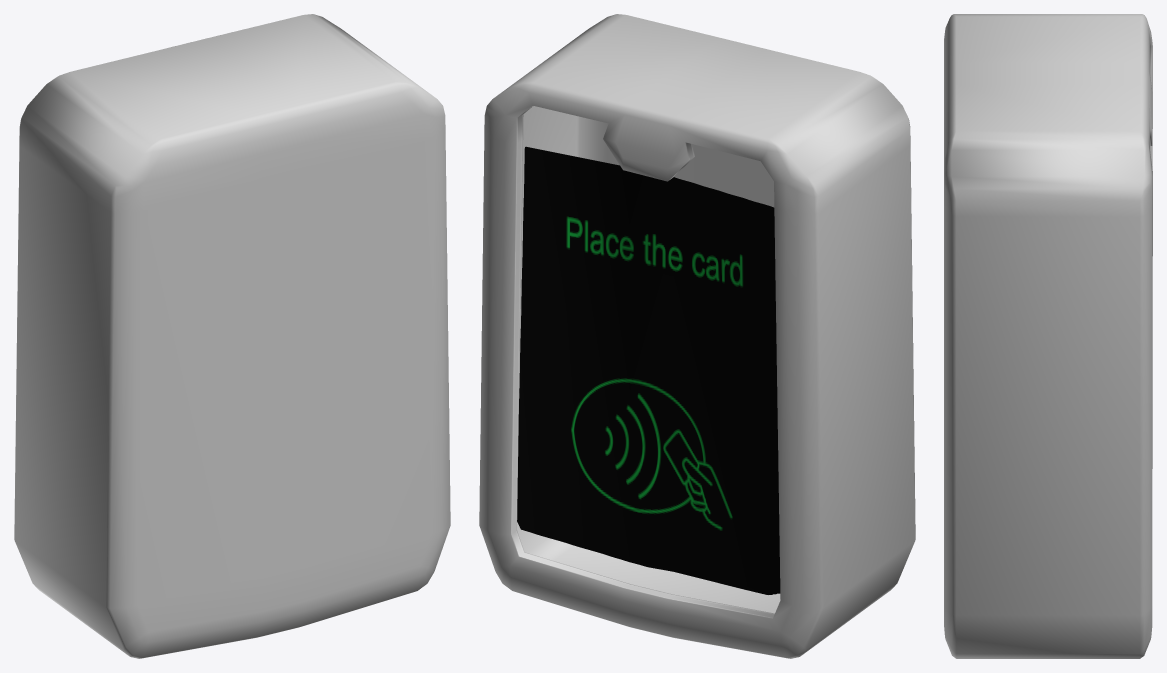
The model's file is Scan_card.fbx.
The picture shows the model from 3 angles, left to right: view 1: azimuth 30°, elevation 25°; view 2: azimuth 150°, elevation 25°; view 3: azimuth 270°, elevation 25°; orthographic projection.
Visible parts, largest first — view 1: Scan_card; view 2: Scan_card; view 3: Scan_card.
Part boxes in pixels (x1,y1,x2,y2): Scan_card: (14, 14, 450, 658); Scan_card: (479, 14, 915, 658); Scan_card: (944, 14, 1152, 658).
Bounding box in the file's own units: 38.35 × 55.55 × 20.05.
2 materials, 1 textured.
